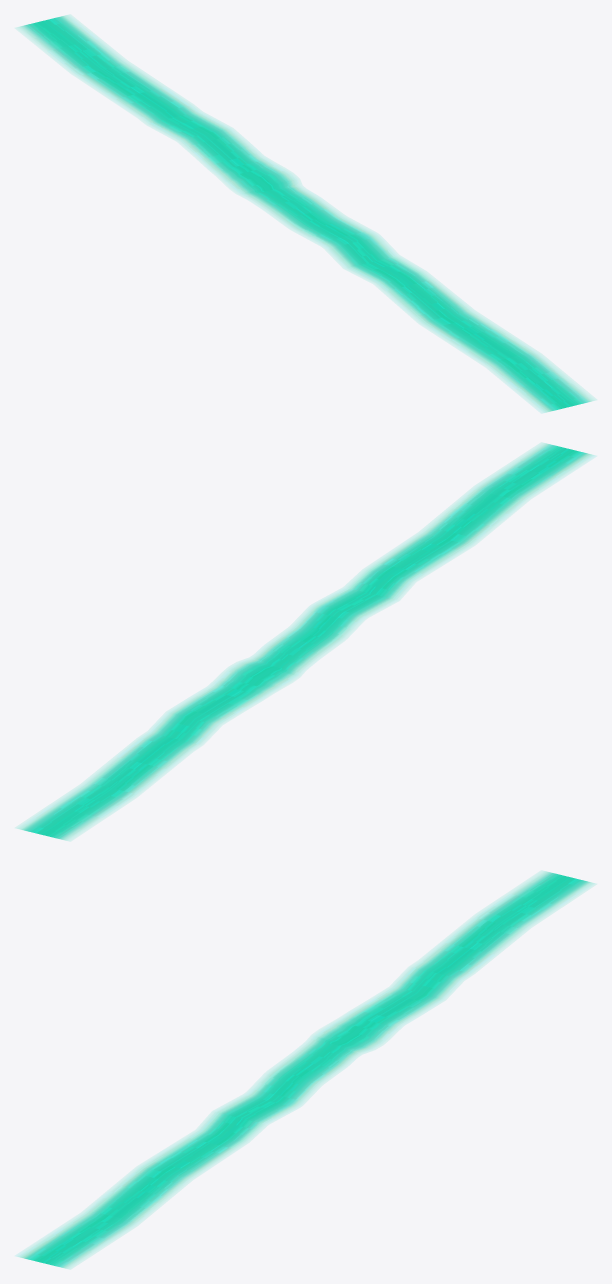
3 renders of one model, top to bottom at view 1: azimuth 30°, elevation 25°; view 2: azimuth 150°, elevation 25°; view 3: azimuth 330°, elevation 25°, orthographic.
Parts seen in each view (by area): view 1: SM_河流; view 2: SM_河流; view 3: SM_河流.
Boxes of the visible parts, x1=… form: SM_河流: x1=15, y1=14, x2=596, y2=413; SM_河流: x1=15, y1=442, x2=596, y2=841; SM_河流: x1=15, y1=870, x2=596, y2=1269.
Size of the model in its own units: 6.28 by 1.56e-06 by 85.06.
1 material, 1 textured.
